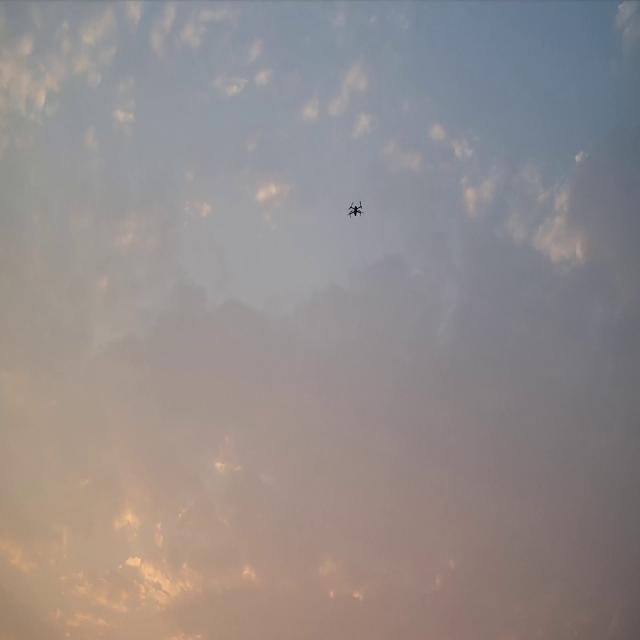UAV: (346, 200, 364, 218)
